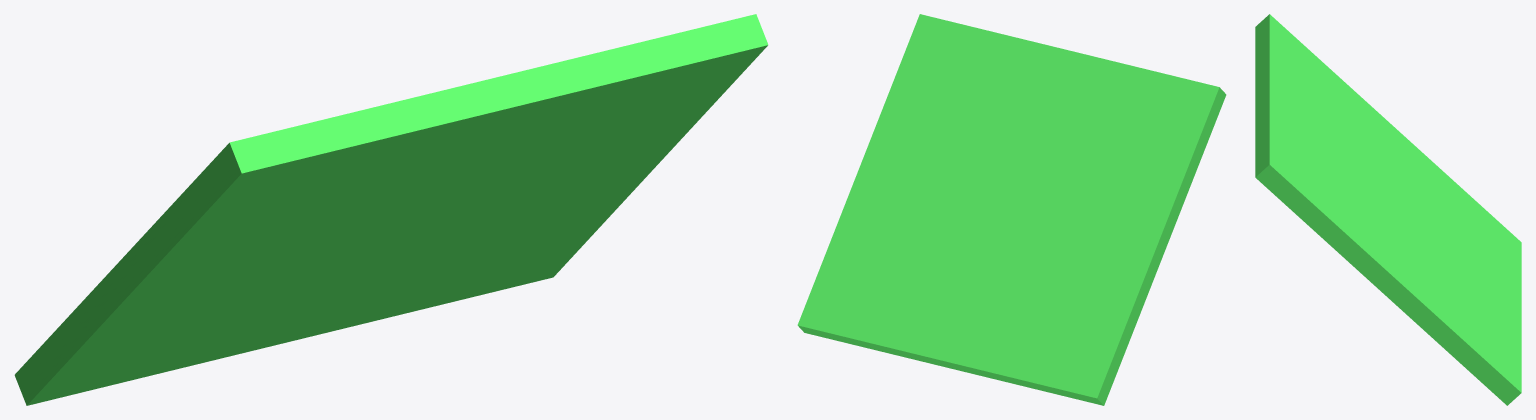
File: ColorSensor_G.fbx
3 renders of one model, left to right at view 1: azimuth 30°, elevation 25°; view 2: azimuth 150°, elevation 25°; view 3: azimuth 270°, elevation 25°, orthographic. The views are drawn at different scales.
Visible parts, largest first — view 1: ColorSensor_G; view 2: ColorSensor_G; view 3: ColorSensor_G.
Part boxes in pixels (bbox=[...]): ColorSensor_G: bbox=[14, 14, 768, 405]; ColorSensor_G: bbox=[797, 14, 1226, 405]; ColorSensor_G: bbox=[1255, 14, 1521, 405].
Bounding box in the file's own units: 0.7044 × 0.5264 × 0.5264.
